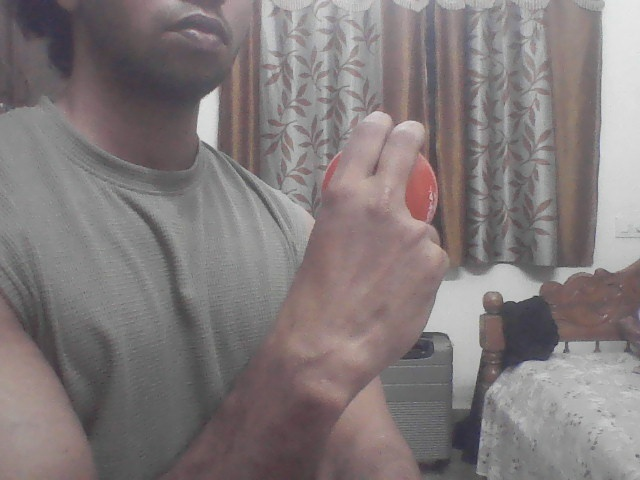cricket_ball: (322, 147, 444, 228)
